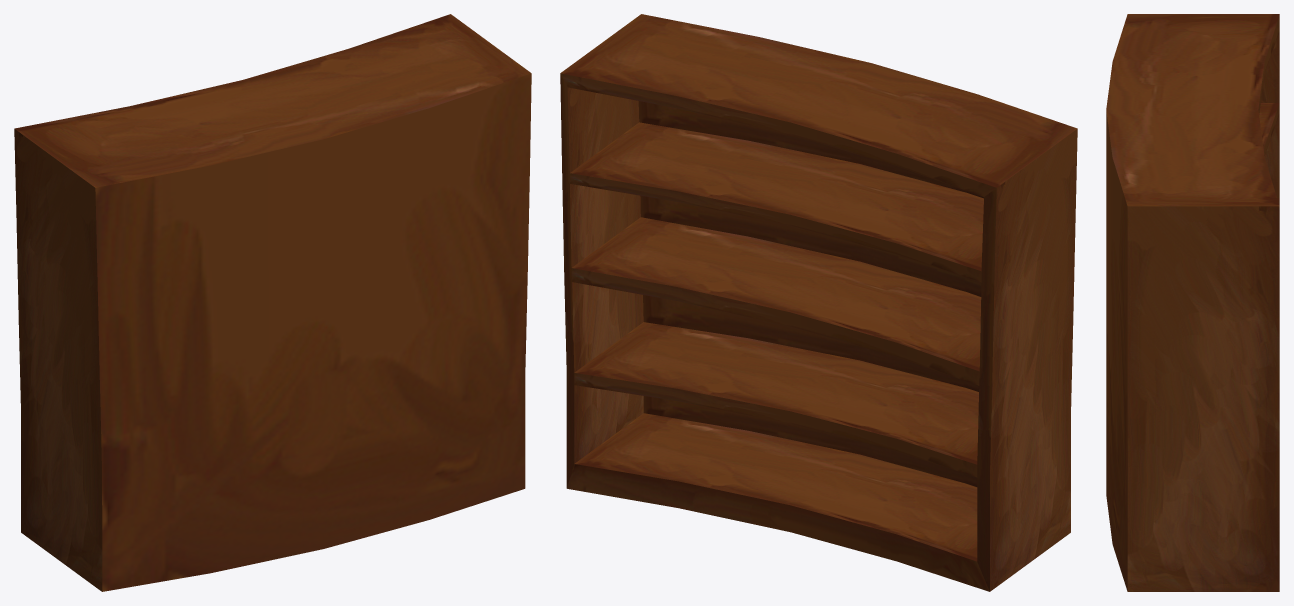
Rendered from e_asset_bookcase_curved_2.fbx.
3 views of the same model, side by side, from view 1: azimuth 30°, elevation 25°; view 2: azimuth 150°, elevation 25°; view 3: azimuth 270°, elevation 25° (orthographic). The views are drawn at different scales.
Parts seen in each view (by area): view 1: e_asset_bookcase5; view 2: e_asset_bookcase5; view 3: e_asset_bookcase5.
Part boxes in pixels (x1=…): e_asset_bookcase5: x1=14, y1=14, x2=531, y2=591; e_asset_bookcase5: x1=560, y1=14, x2=1077, y2=591; e_asset_bookcase5: x1=1106, y1=14, x2=1279, y2=591.
Size of the model in its own units: 177 by 160 by 64.81.
